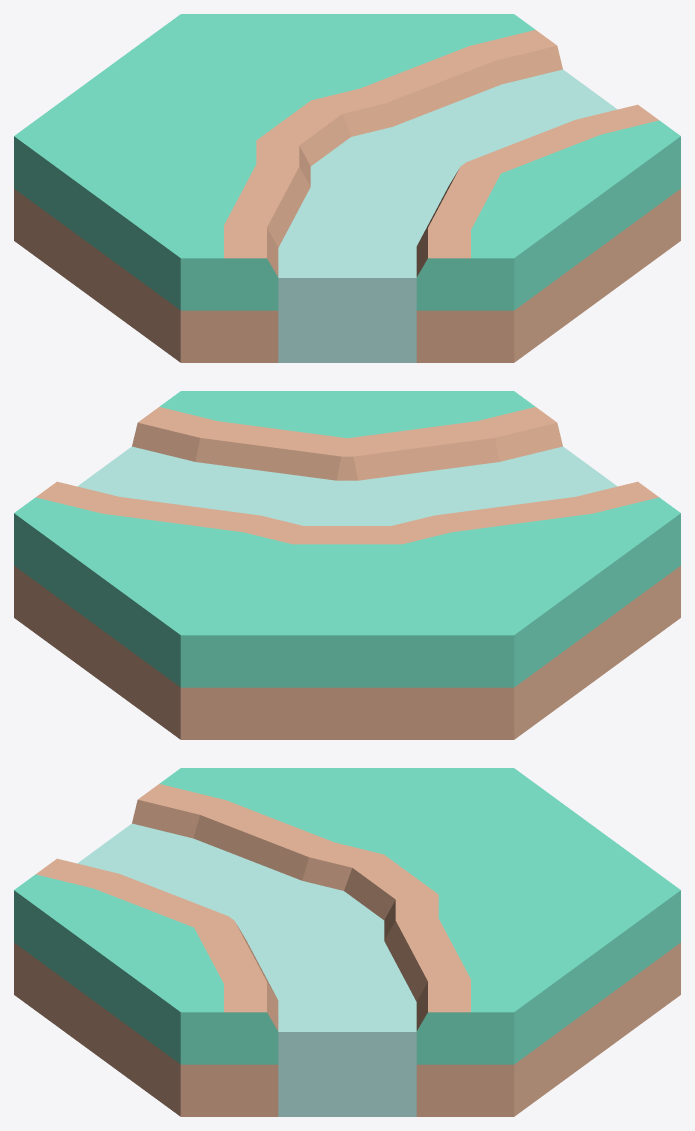
The model's file is river_corner.glb.
3 renders of one model, top to bottom at view 1: azimuth 30°, elevation 25°; view 2: azimuth 150°, elevation 25°; view 3: azimuth 270°, elevation 25°, orthographic.
Visible parts, largest first — view 1: river_corner; view 2: river_corner; view 3: river_corner.
Boxes of the visible parts, bbox=[...] form: river_corner: bbox=[14, 14, 680, 362]; river_corner: bbox=[14, 391, 680, 739]; river_corner: bbox=[14, 768, 680, 1116].
Size of the model in its own units: 1 by 0.2 by 1.15.
